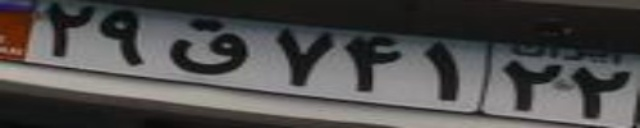1: (423, 42, 457, 100)
2: (570, 65, 630, 120), (501, 60, 560, 111), (42, 3, 90, 58)
4: (342, 33, 403, 92)
7: (274, 27, 334, 88)
9: (100, 9, 144, 65)
ghaf: (168, 18, 249, 74)
